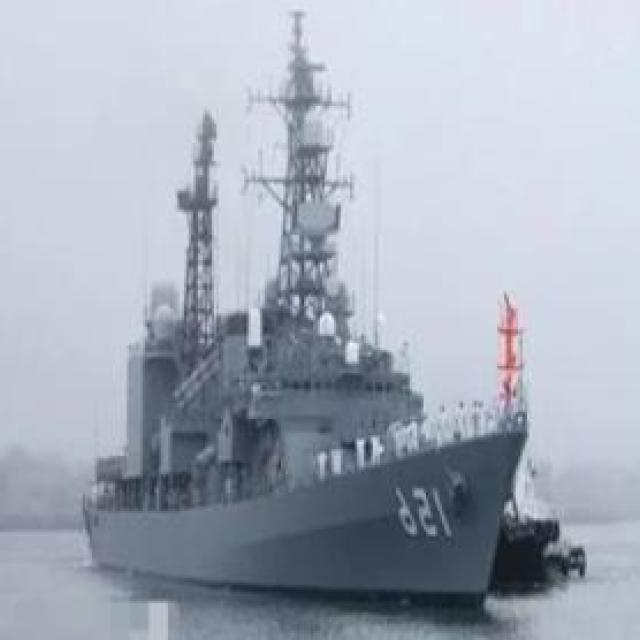navalvessels: (78, 23, 540, 605)
